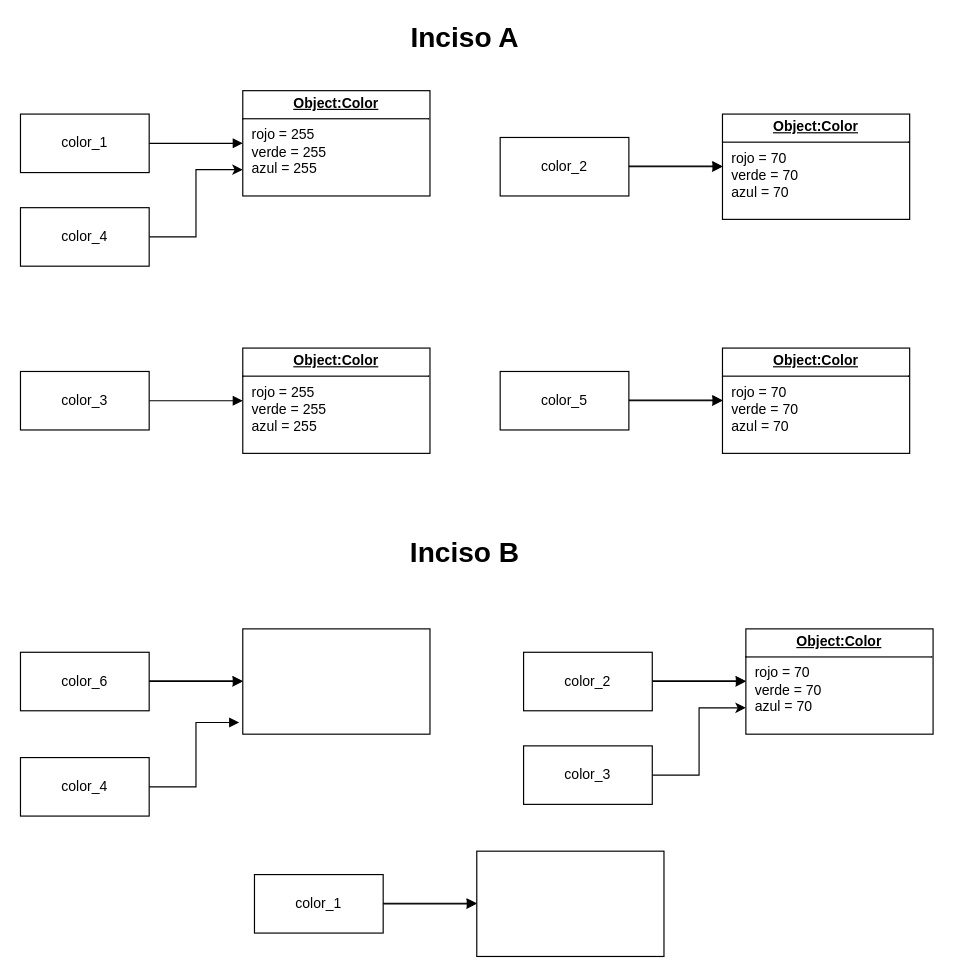
Image size: 954x977. Some labels were removed from this diagram. The shapes that lost their labels are listed below. From the top down, each one's centre as x and y in pixels, then its label:
the point at 336,681: Object:Color rojo = 140 verde = 150 azul = 140
the point at 570,903: Object:Color rojo = 185 verde = 185 azul = 185
